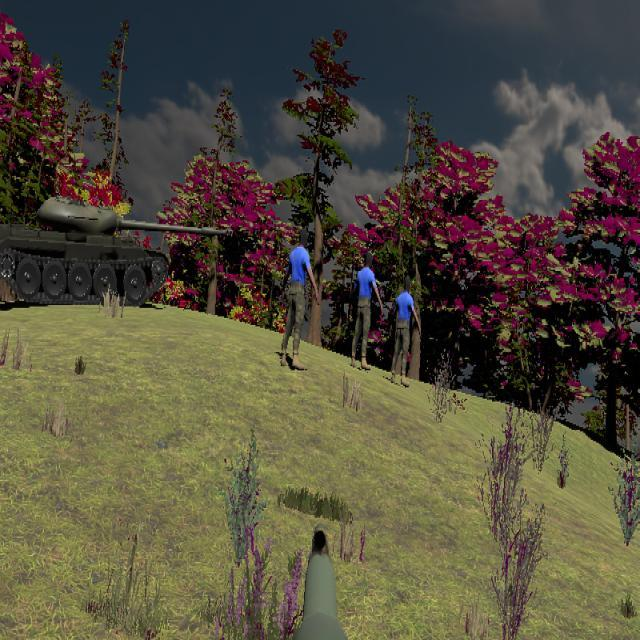Human: (280, 225, 319, 372), (350, 248, 383, 369), (391, 274, 421, 386)
Tank: (0, 195, 231, 309)
